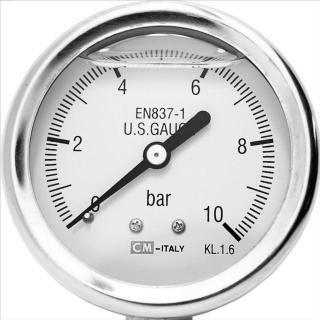gauge: (0, 0, 320, 320), (66, 200, 100, 228), (142, 140, 172, 170), (214, 209, 240, 242), (63, 218, 79, 233)
